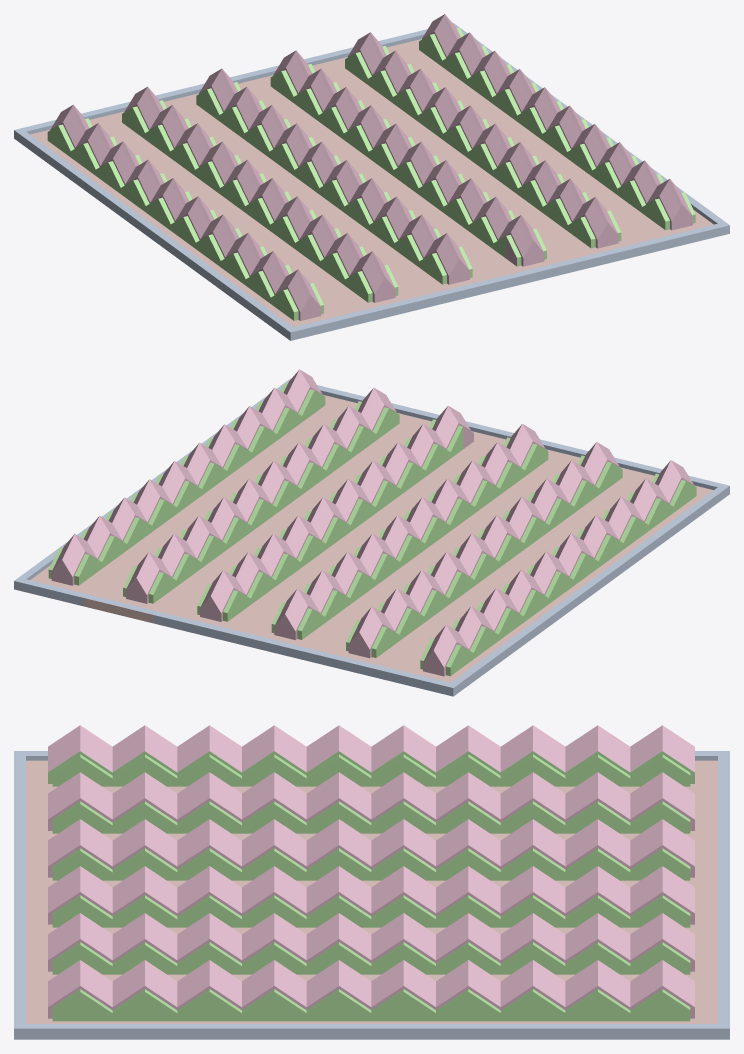
The model's file is Character_Rooms_Spikes.fbx.
3 views of the same model, one above another, from view 1: azimuth 30°, elevation 25°; view 2: azimuth 150°, elevation 25°; view 3: azimuth 270°, elevation 25° (orthographic). The views are drawn at different scales.
Parts seen in each view (by area): view 1: Spike, spikeBase; view 2: Spike, spikeBase; view 3: Spike, spikeBase.
Part boxes in pixels (x1,y1,x2,y2): Spike: (47,14,695,320); spikeBase: (14,23,729,340); Spike: (48,369,696,676); spikeBase: (14,378,729,696); Spike: (48,725,694,1021); spikeBase: (14,751,729,1039).
Size of the model in its own units: 671 by 72.71 by 732.
